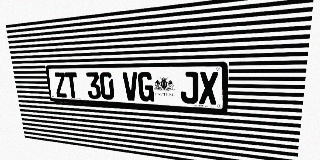0: (99, 72, 114, 100)
3: (86, 72, 101, 99)
G: (137, 72, 154, 102)
J: (180, 72, 198, 104)
T: (65, 72, 79, 98)
V: (122, 72, 139, 101)
X: (199, 72, 218, 105)
Z: (53, 72, 67, 98)
